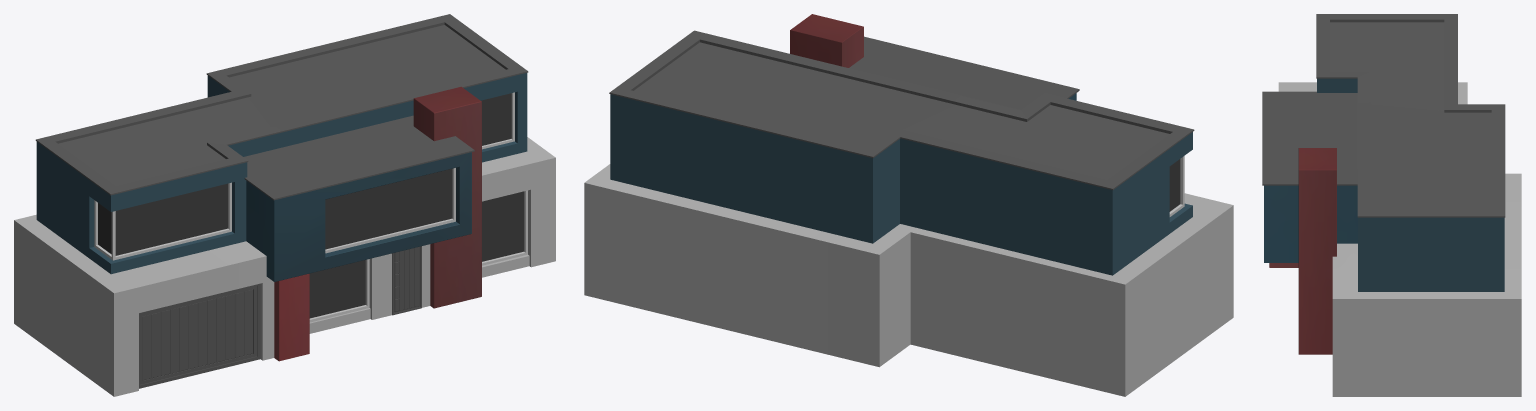
File: Casa5.obj
The picture shows the model from 3 angles, left to right: view 1: azimuth 30°, elevation 25°; view 2: azimuth 150°, elevation 25°; view 3: azimuth 270°, elevation 25°; orthographic projection. The views are drawn at different scales.
Visible parts, largest first — view 1: Casa5; view 2: Casa5; view 3: Casa5.
Boxes of the visible parts, box(x1,y1,x2,y2) form: Casa5: box(14, 14, 555, 396); Casa5: box(584, 14, 1233, 396); Casa5: box(1262, 14, 1521, 396).
Size of the model in its own units: 15.2 by 6.04 by 7.69.
Materials: 1 (1 with a texture image).
